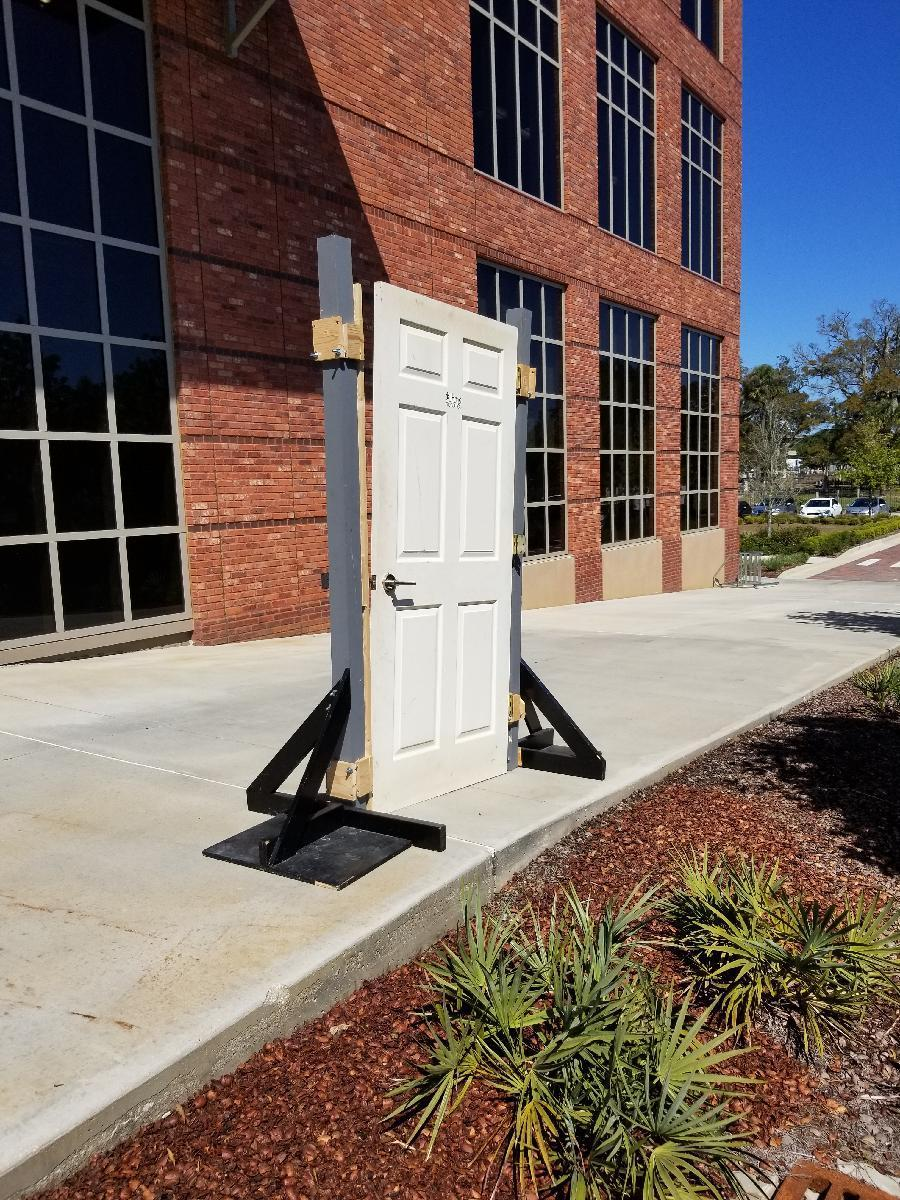door: (378, 298, 510, 789)
handle: (382, 571, 420, 595)
